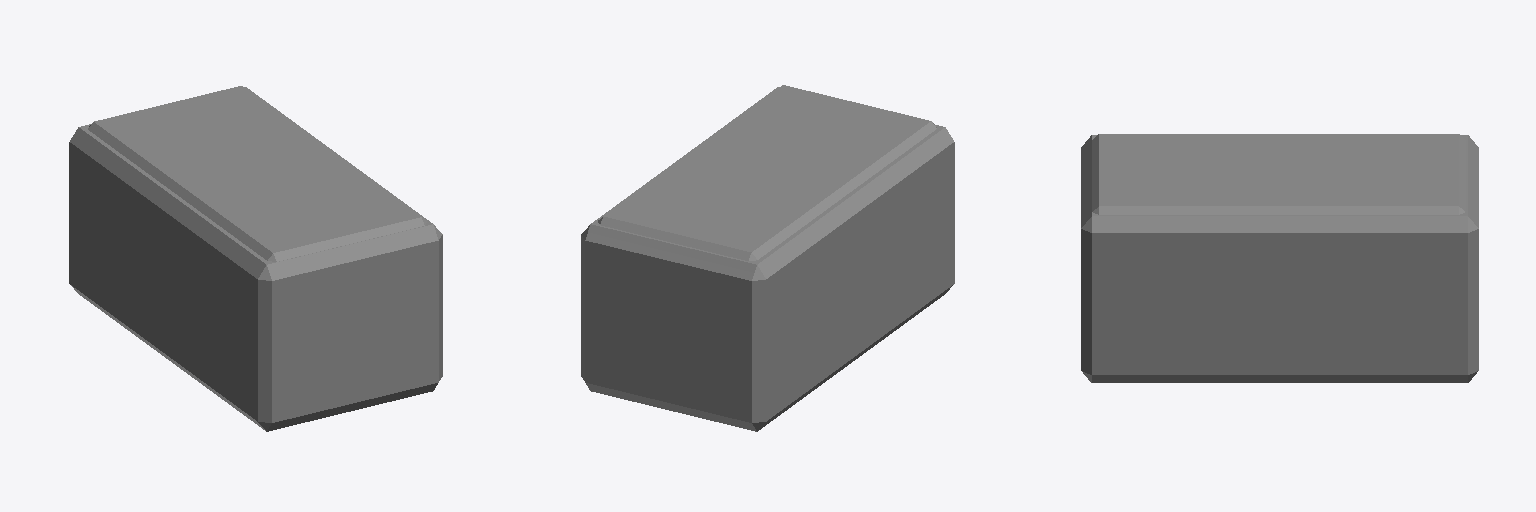
The model's file is VanillaTub.obj.
The picture shows the model from 3 angles: view 1: azimuth 30°, elevation 25°; view 2: azimuth 150°, elevation 25°; view 3: azimuth 270°, elevation 25°; orthographic projection.
Parts seen in each view (by area): view 1: Box002, Box001; view 2: Box002, Box001; view 3: Box002, Box001.
Part boxes in pixels (bbox=[...]): Box002: bbox=[69, 87, 442, 431]; Box001: bbox=[88, 86, 426, 261]; Box002: bbox=[581, 87, 954, 431]; Box001: bbox=[598, 85, 936, 260]; Box002: bbox=[1081, 135, 1478, 382]; Box001: bbox=[1092, 134, 1465, 214].
Size of the model in its own units: 2.23 by 2 by 4.16.